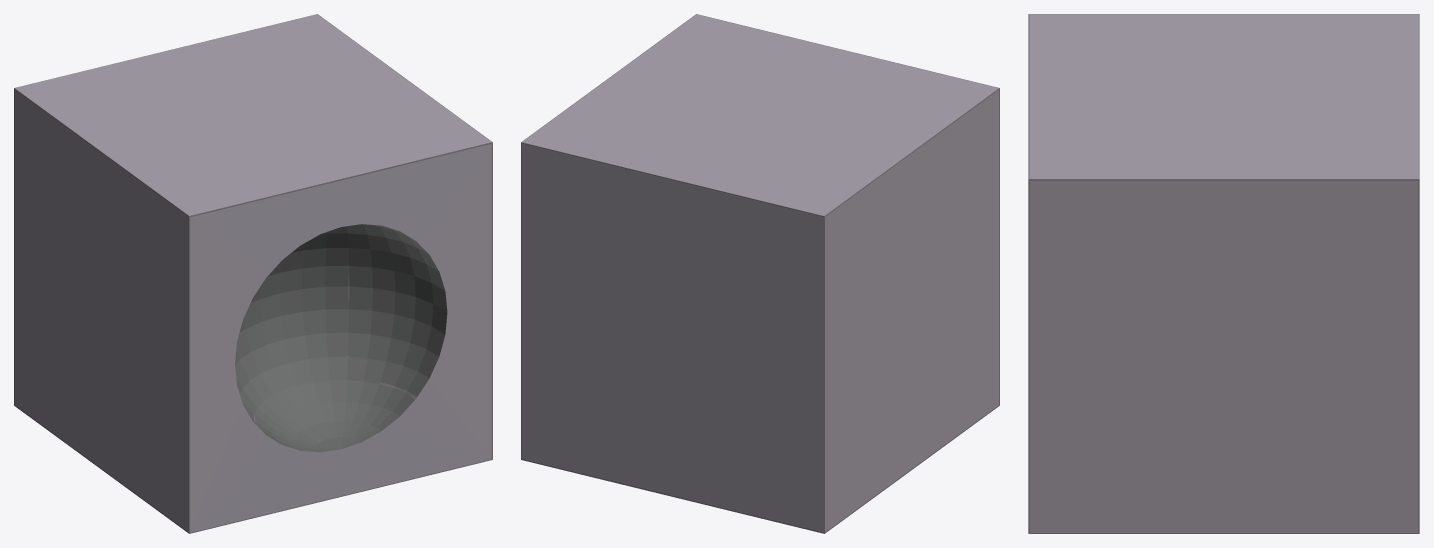
The model's file is bossPartsCoreBox.obj.
The picture shows the model from 3 angles, left to right: view 1: azimuth 30°, elevation 25°; view 2: azimuth 150°, elevation 25°; view 3: azimuth 270°, elevation 25°; orthographic projection. The views are drawn at different scales.
Parts seen in each view (by area): view 1: 立方体; view 2: 立方体; view 3: 立方体.
Part boxes in pixels (bbox=[...]): 立方体: bbox=[14, 14, 492, 533]; 立方体: bbox=[521, 14, 999, 533]; 立方体: bbox=[1028, 14, 1419, 533].
Bounding box in the file's own units: 2 × 2 × 2.
Materials: 1 (1 with a texture image).
